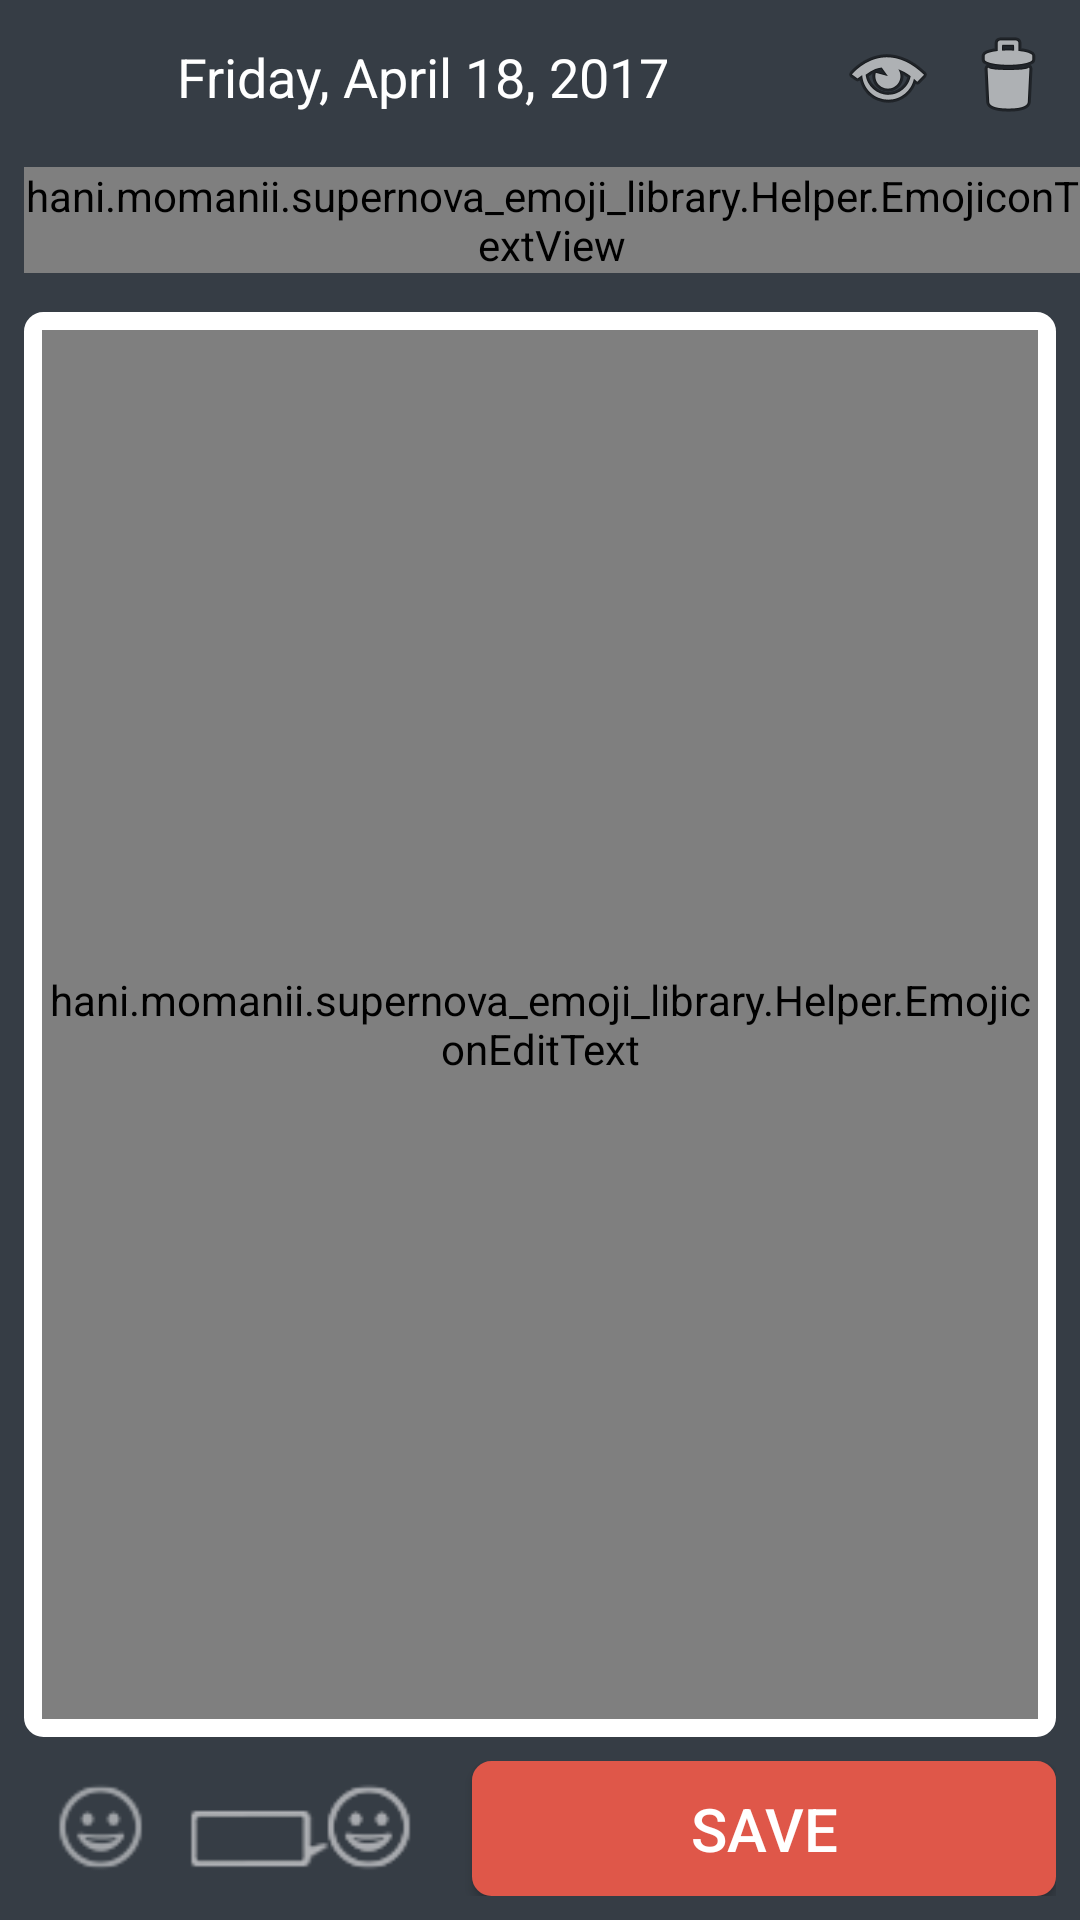

Where to tap for icons on this 1080px×1920px app screen, as (x=x, y=y):
delete: (x=1008, y=74)
emoji people: (x=100, y=1827)
